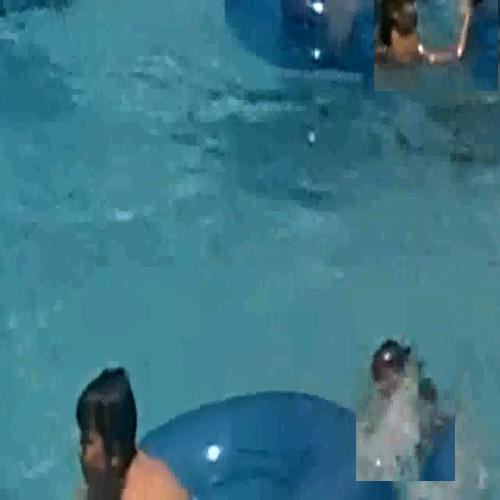drowning: (356, 294, 456, 482)
swimming: (54, 361, 215, 499), (374, 0, 499, 92)
